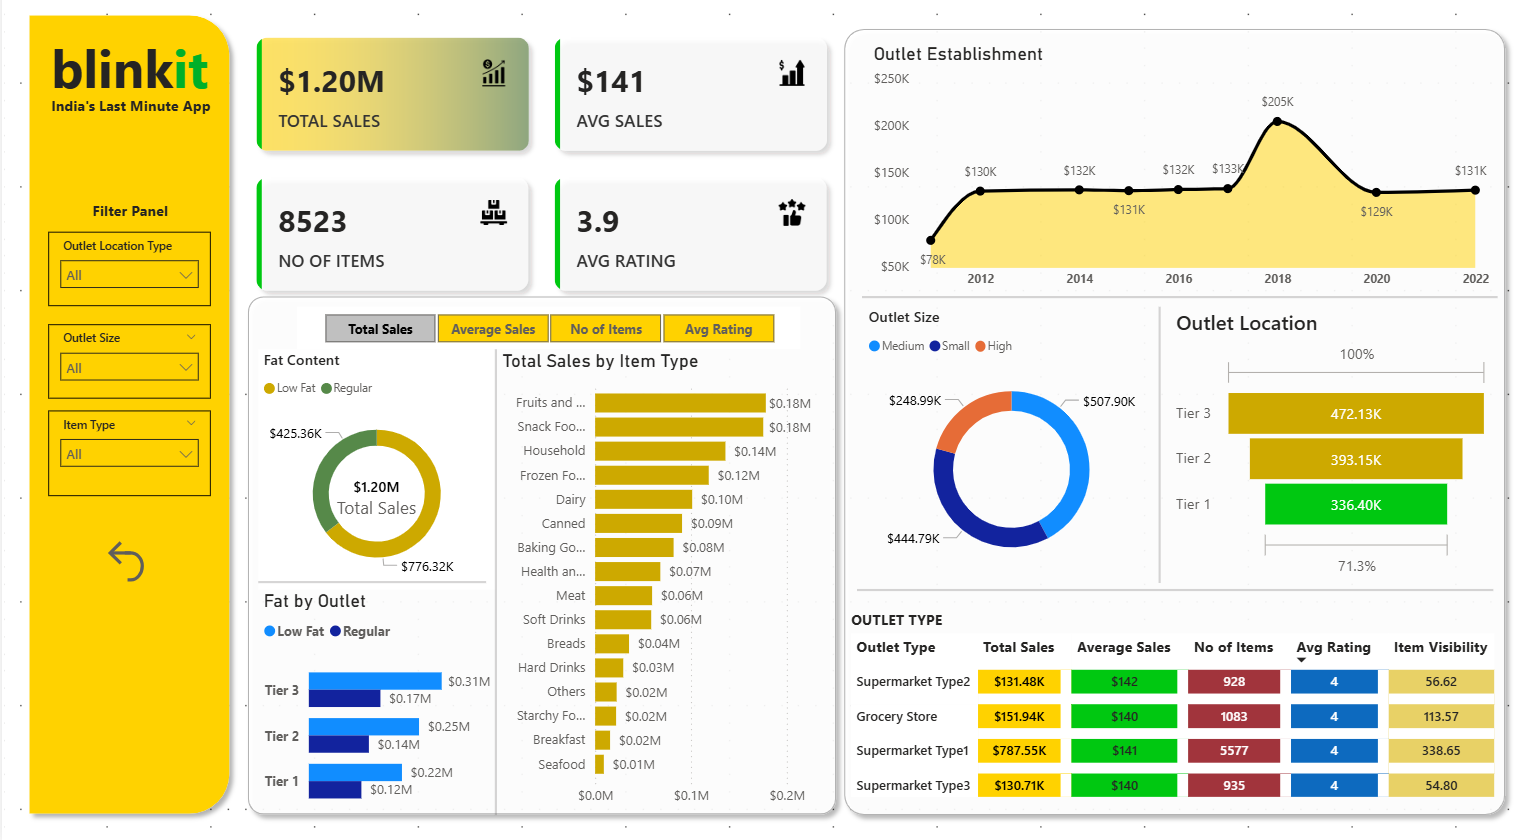

The page's visual inventory and layout, read from the dashboard file:
{"tool":"powerbi","page":{"name":"Page 1","canvas":[1400,800],"ordinal":0},"visuals":[{"type":"shape","box":[16.5,25.4,203.5,758],"z":0},{"type":"textbox","box":[40.5,45,165.1,76.5],"z":1000},{"type":"textbox","box":[40.5,103.6,178.6,34.5],"z":2000},{"type":"cardVisual","fields":{"Data":["BlinkIT Grocery Data.Total Sales","BlinkIT Grocery Data.Average Sales","BlinkIT Grocery Data.No of Items","BlinkIT Grocery Data.Avg Rating"]},"box":[218.8,38.2,562.1,269.6],"z":3000},{"type":"shape","box":[218.8,286.2,562.1,497.3],"z":4000},{"type":"donutChart","title":"Fat Content","fields":{"Y":["BlinkIT Grocery Data.Total Sales"],"Category":["BlinkIT Grocery Data.Item Fat Content"]},"box":[236.6,343.4,220,222.6],"z":5000},{"type":"slicer","fields":{"Values":["Metrics.Metrics"]},"box":[273.4,304,465.5,39.4],"z":6000},{"type":"cardVisual","fields":{"Data":["BlinkIT Grocery Data.Total Sales"]},"box":[292.5,443.9,108.1,61],"z":7000},{"type":"clusteredBarChart","title":"Fat by Outlet","fields":{"Y":["BlinkIT Grocery Data.Total Sales"],"Category":["BlinkIT Grocery Data.Outlet Location Type"],"Series":["BlinkIT Grocery Data.Item Fat Content"]},"box":[236.6,566,220,217.5],"z":8000},{"type":"shape","box":[236.6,465.5,211.1,188.2],"z":9000},{"type":"barChart","fields":{"Y":["BlinkIT Grocery Data.Total Sales"],"Category":["BlinkIT Grocery Data.Item Type"]},"box":[457.9,343.4,312.9,431.1],"z":10000},{"type":"shape","box":[347.2,343.4,220,431.1],"z":11000},{"type":"shape","box":[770.7,38.2,629.5,745.3],"z":12000},{"type":"lineChart","title":"Outlet Establishment","fields":{"Y":["BlinkIT Grocery Data.Total Sales"],"Category":["BlinkIT Grocery Data.Outlet Establishment Year"]},"box":[801.2,59.8,579.9,235.3],"z":13000},{"type":"shape","box":[796.2,200.9,588.8,188.2],"z":14000},{"type":"donutChart","title":"Outlet Size","fields":{"Y":["BlinkIT Grocery Data.Total Sales"],"Category":["BlinkIT Grocery Data.Outlet Size"]},"box":[796.5,303.7,274.7,255.8],"z":15000},{"type":"funnel","title":"Outlet Location","fields":{"Category":["BlinkIT Grocery Data.Outlet Location Type"],"Y":["Sum(BlinkIT Grocery Data.Sales)"]},"box":[1081.3,305,299.9,254.6],"z":16000},{"type":"shape","box":[961.5,304,220,255.6],"z":17000},{"type":"pivotTable","title":"OUTLET TYPE","fields":{"Values":["BlinkIT Grocery Data.Total Sales","BlinkIT Grocery Data.Average Sales","BlinkIT Grocery Data.No of Items","BlinkIT Grocery Data.Avg Rating","Sum(BlinkIT Grocery Data.Item Visibility)"],"Rows":["BlinkIT Grocery Data.Outlet Type"]},"box":[780.9,583.8,610.5,216.2],"z":18000},{"type":"slicer","fields":{"Values":["BlinkIT Grocery Data.Outlet Location Type"]},"box":[43.2,235.3,150.1,68.7],"z":19000},{"type":"slicer","fields":{"Values":["BlinkIT Grocery Data.Outlet Size"]},"box":[43.2,320.5,150.1,68.7],"z":20000},{"type":"slicer","fields":{"Values":["BlinkIT Grocery Data.Item Type"]},"box":[43.2,400.6,150.1,78.9],"z":21000},{"type":"textbox","box":[66.1,200.9,105.6,29.3],"z":22000},{"type":"shape","box":[791.4,471.3,588.5,189],"z":23000},{"type":"actionButton","box":[70.4,496.6,93.4,87],"z":24000}]}

Visuals, with their boxes on the page's 1400x800 design canvas (x1, y1, x2, y2). These are canvas units, not pixel positions in the 1516x840 screenshot, which may show the page scaled, cropped or inside an application window:
shape: bbox=[16, 25, 220, 783]
textbox: bbox=[40, 45, 206, 122]
textbox: bbox=[40, 104, 219, 138]
cardVisual - BlinkIT Grocery Data.Total Sales x BlinkIT Grocery Data.Average Sales: bbox=[219, 38, 781, 308]
shape: bbox=[219, 286, 781, 784]
"Fat Content" donutChart: bbox=[237, 343, 457, 566]
slicer - Metrics.Metrics: bbox=[273, 304, 739, 343]
cardVisual - BlinkIT Grocery Data.Total Sales: bbox=[292, 444, 401, 505]
"Fat by Outlet" clusteredBarChart: bbox=[237, 566, 457, 784]
shape: bbox=[237, 466, 448, 654]
barChart - BlinkIT Grocery Data.Total Sales x BlinkIT Grocery Data.Item Type: bbox=[458, 343, 771, 774]
shape: bbox=[347, 343, 567, 774]
shape: bbox=[771, 38, 1400, 784]
"Outlet Establishment" lineChart: bbox=[801, 60, 1381, 295]
shape: bbox=[796, 201, 1385, 389]
"Outlet Size" donutChart: bbox=[796, 304, 1071, 560]
"Outlet Location" funnel: bbox=[1081, 305, 1381, 560]
shape: bbox=[962, 304, 1182, 560]
"OUTLET TYPE" pivotTable: bbox=[781, 584, 1391, 800]
slicer - BlinkIT Grocery Data.Outlet Location Type: bbox=[43, 235, 193, 304]
slicer - BlinkIT Grocery Data.Outlet Size: bbox=[43, 320, 193, 389]
slicer - BlinkIT Grocery Data.Item Type: bbox=[43, 401, 193, 480]
textbox: bbox=[66, 201, 172, 230]
shape: bbox=[791, 471, 1380, 660]
actionButton: bbox=[70, 497, 164, 584]
